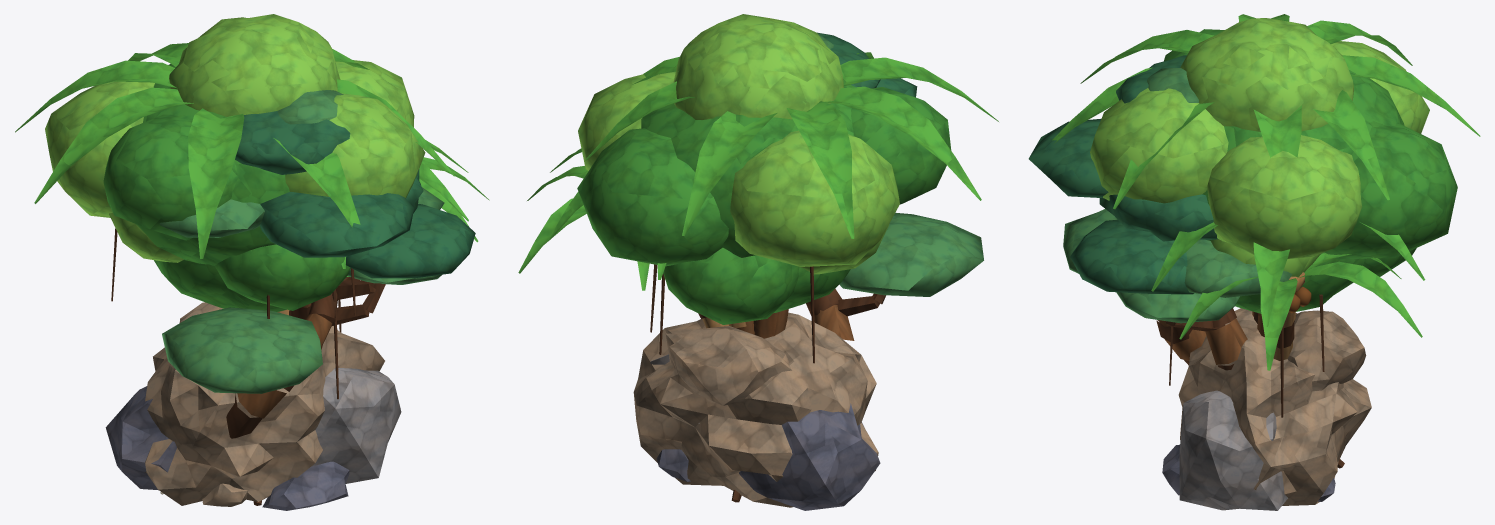
Rendered from nature.glb.
3 views of the same model, side by side, from view 1: azimuth 30°, elevation 25°; view 2: azimuth 150°, elevation 25°; view 3: azimuth 270°, elevation 25° (orthographic).
Visible parts, largest first — view 1: Jungle_B, CliffRock, Ironwood_B, Ironwood_A, Palm_B, Jungle_A, Palm_A, Palm_C, Boulder; view 2: Jungle_B, CliffRock, Palm_B, Ironwood_B, Jungle_A, Palm_C, Ironwood_A, Boulder, Palm_A; view 3: Jungle_B, CliffRock, Ironwood_B, Palm_B, Ironwood_A, Palm_C, Jungle_A, Palm_A.
Part boxes in pixels (bbox=[...]): Jungle_B: bbox=[45, 14, 425, 318]; CliffRock: bbox=[105, 302, 401, 510]; Ironwood_B: bbox=[162, 169, 475, 505]; Ironwood_A: bbox=[159, 90, 441, 505]; Palm_B: bbox=[15, 43, 454, 258]; Jungle_A: bbox=[109, 213, 350, 399]; Palm_A: bbox=[277, 140, 468, 312]; Palm_C: bbox=[279, 157, 489, 315]; Boulder: bbox=[202, 483, 247, 506]; Jungle_B: bbox=[577, 14, 951, 363]; CliffRock: bbox=[633, 312, 880, 510]; Palm_B: bbox=[585, 52, 998, 333]; Ironwood_B: bbox=[732, 212, 983, 502]; Jungle_A: bbox=[650, 224, 889, 354]; Palm_C: bbox=[518, 166, 728, 328]; Ironwood_A: bbox=[732, 32, 917, 501]; Boulder: bbox=[656, 423, 699, 481]; Palm_A: bbox=[548, 148, 746, 329]; Jungle_B: bbox=[1090, 18, 1457, 316]; CliffRock: bbox=[1162, 308, 1371, 510]; Ironwood_B: bbox=[1063, 194, 1343, 468]; Palm_B: bbox=[1052, 14, 1480, 323]; Ironwood_A: bbox=[1028, 55, 1344, 467]; Palm_C: bbox=[1179, 253, 1422, 370]; Jungle_A: bbox=[1169, 239, 1416, 417]; Palm_A: bbox=[1151, 222, 1425, 326].
Size of the model in its own units: 10.07 by 9.73 by 8.73.
35 materials, 20 textured.
